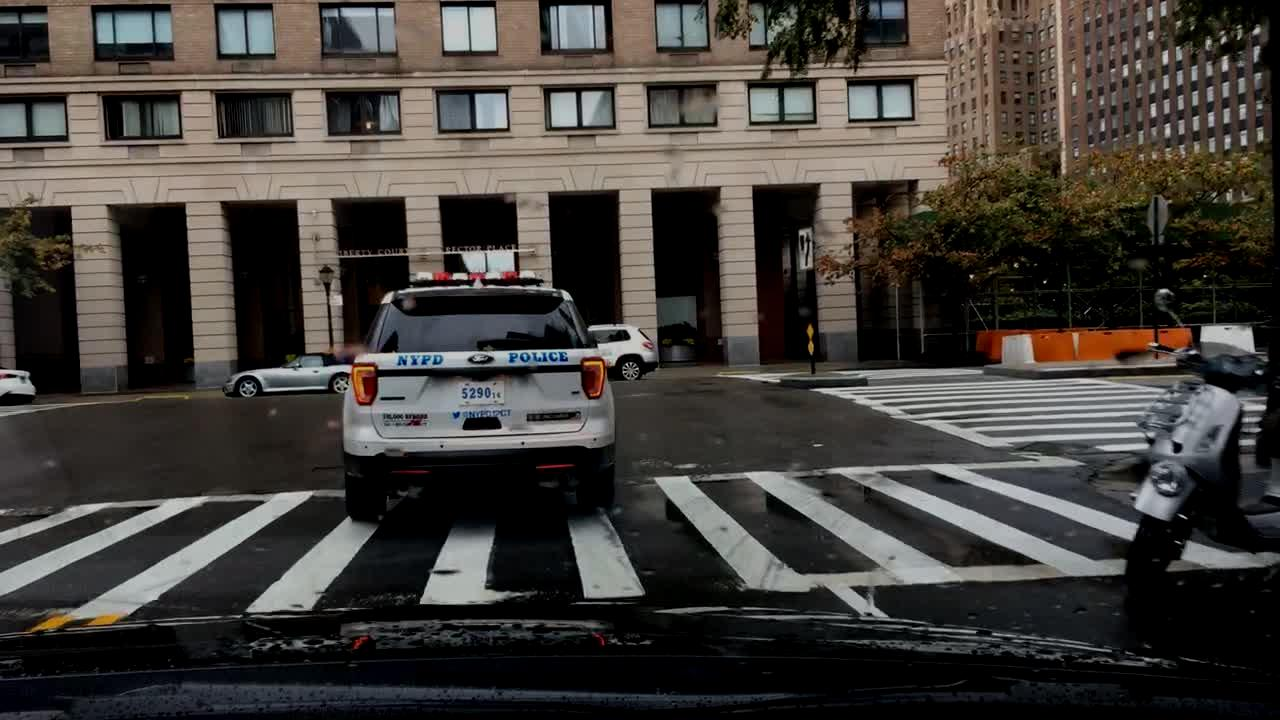ford: (465, 351, 497, 368)
